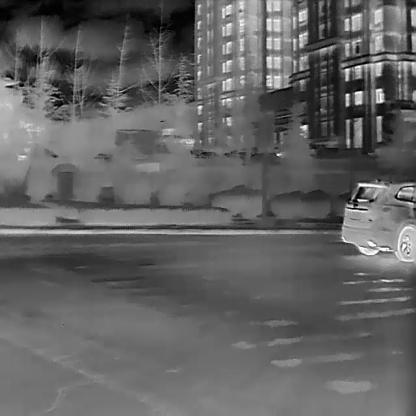car: (340, 176, 416, 263)
